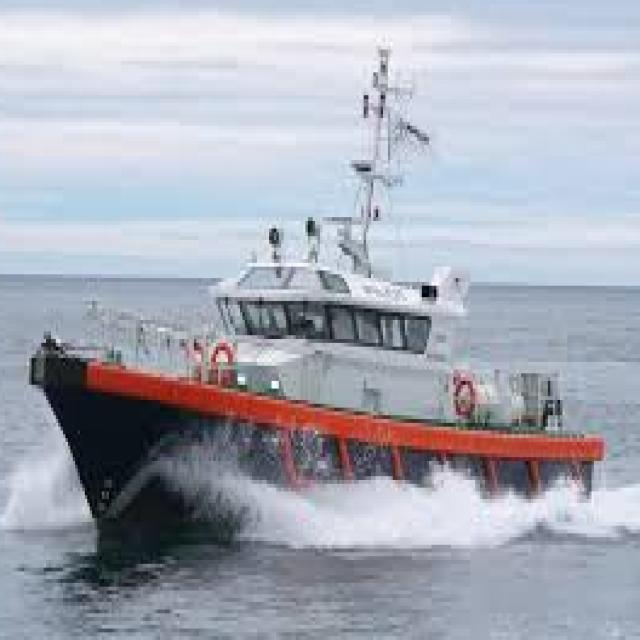houseboat: (26, 50, 588, 553)
